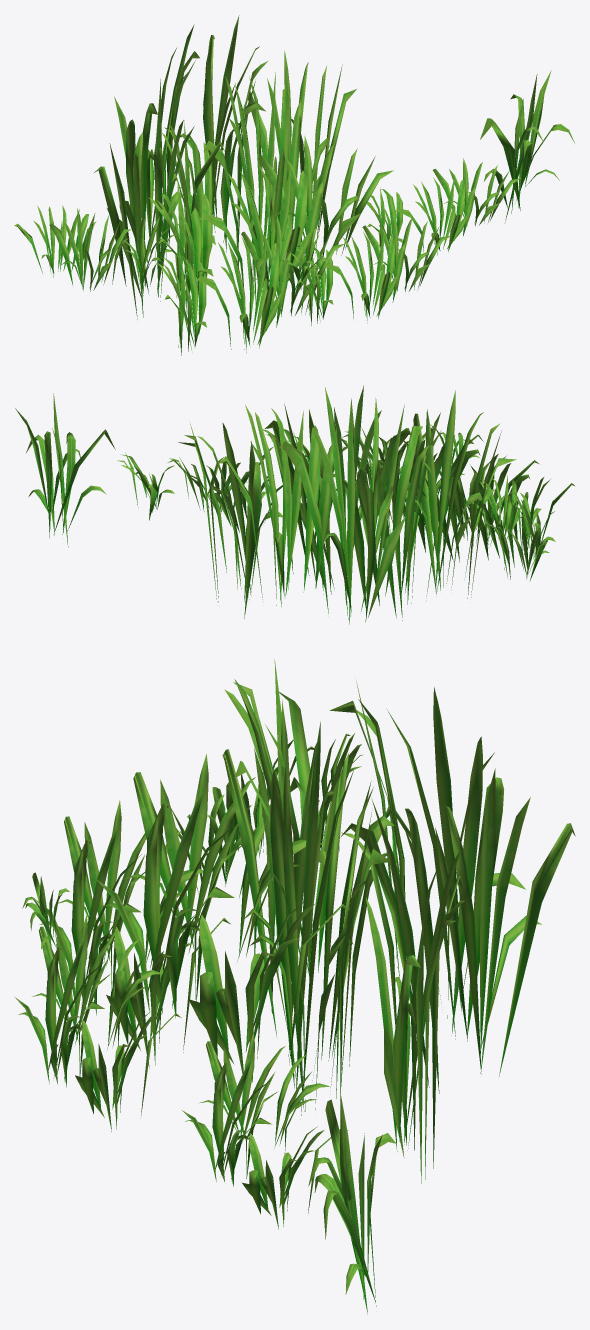
Rendered from cao_fenzu01.fbx.
3 views of the same model, one above another, from view 1: azimuth 30°, elevation 25°; view 2: azimuth 150°, elevation 25°; view 3: azimuth 270°, elevation 25° (orthographic). The views are drawn at different scales.
Visible parts, largest first — view 1: cao_07__362__1; view 2: cao_07__362__1; view 3: cao_07__362__1.
Boxes of the visible parts, <box> form: cao_07__362__1: <box>14,15,574,355</box>; cao_07__362__1: <box>15,385,574,624</box>; cao_07__362__1: <box>15,659,575,1314</box>.
Bounding box in the file's own units: 1497 × 688 × 831.
